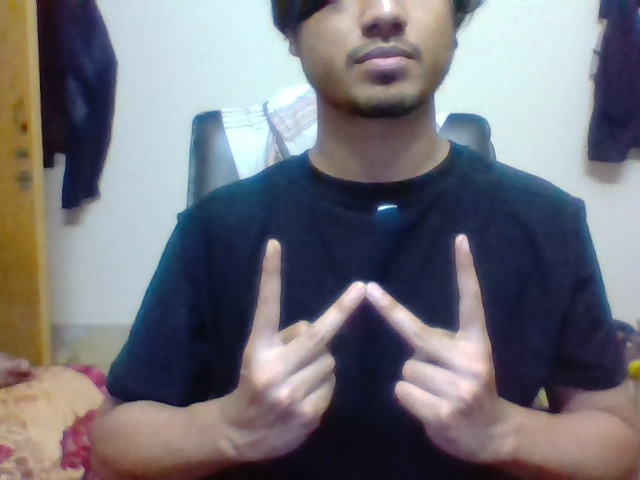W: (247, 228, 491, 350)
